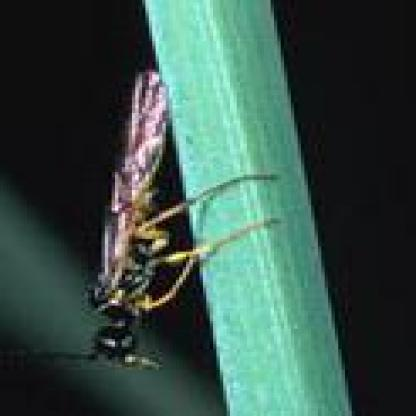sawfly: (46, 66, 286, 379)
